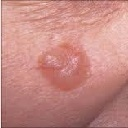Carcinoma: (35, 41, 95, 91)
